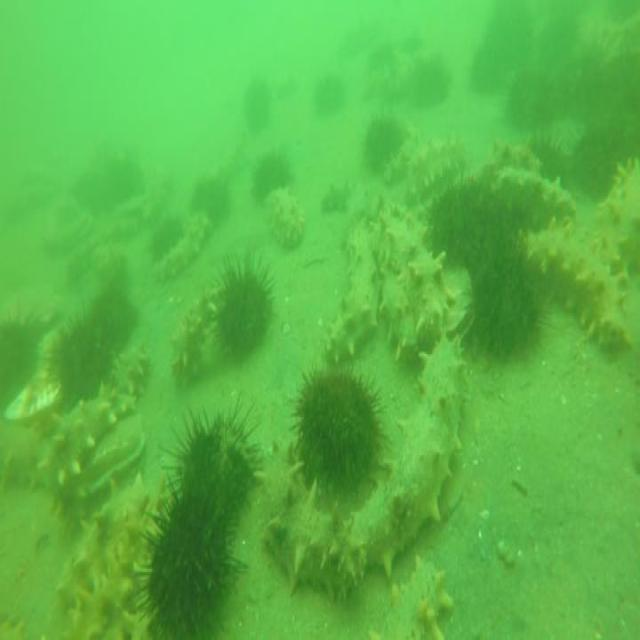echinus: (290, 354, 380, 514), (157, 400, 264, 532), (142, 494, 236, 638), (466, 226, 546, 362), (214, 255, 272, 366), (436, 182, 502, 267), (52, 314, 110, 403), (0, 306, 44, 412), (87, 284, 141, 370), (571, 114, 623, 200), (524, 130, 574, 196), (364, 108, 408, 178), (402, 51, 452, 108), (504, 66, 553, 124), (467, 38, 510, 95), (249, 147, 291, 205), (187, 170, 232, 222), (148, 210, 185, 266), (242, 76, 274, 136), (313, 68, 345, 118)
holothurian: (339, 341, 473, 588), (524, 218, 634, 360), (262, 436, 342, 610), (376, 199, 458, 349), (36, 386, 138, 504), (58, 476, 148, 591), (61, 534, 152, 637), (369, 554, 456, 640), (487, 158, 581, 234), (334, 204, 380, 359), (169, 276, 226, 388), (593, 153, 640, 278), (378, 240, 418, 372), (405, 131, 472, 201), (156, 206, 213, 284), (90, 342, 152, 412), (463, 134, 532, 188), (0, 418, 45, 496), (265, 179, 307, 251), (381, 130, 424, 188), (315, 176, 361, 217)
scallop: (86, 414, 148, 495), (2, 364, 63, 424)
